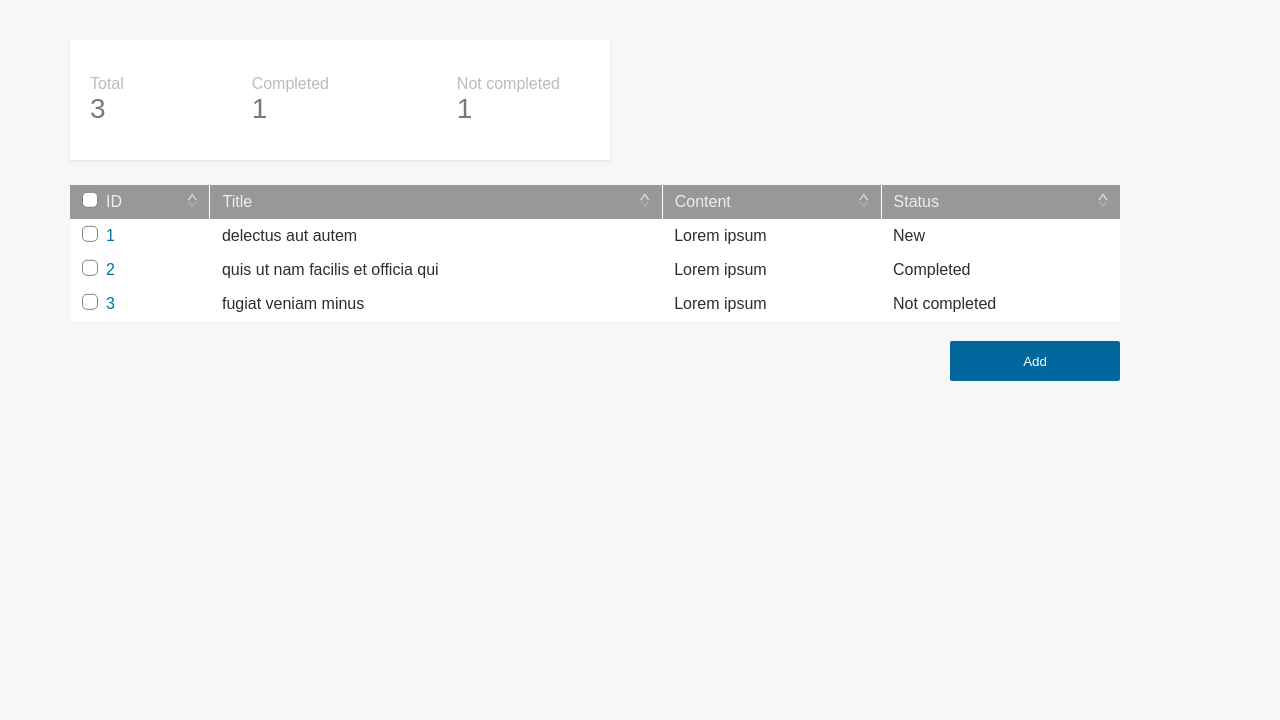
Test: Delete Notes › Delete two notes
Expected: the text "delectus aut autem" is shown, [210,219,662,253]
Expected: the text "fugiat veniam minus" is shown, [210,287,662,321]
Click the checkbox with test id "checkbox-1" at (90, 234), box [82,226,98,242]
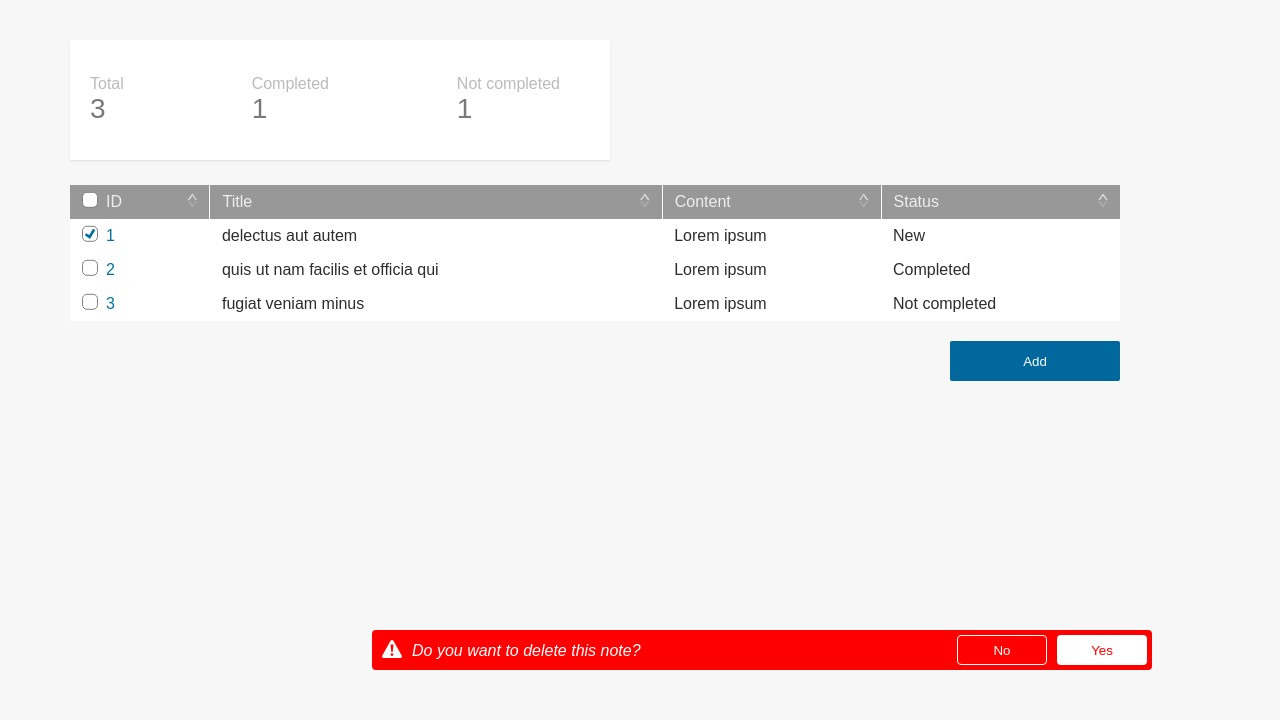
Click the checkbox with test id "checkbox-3" at (90, 302), box [82,294,98,310]
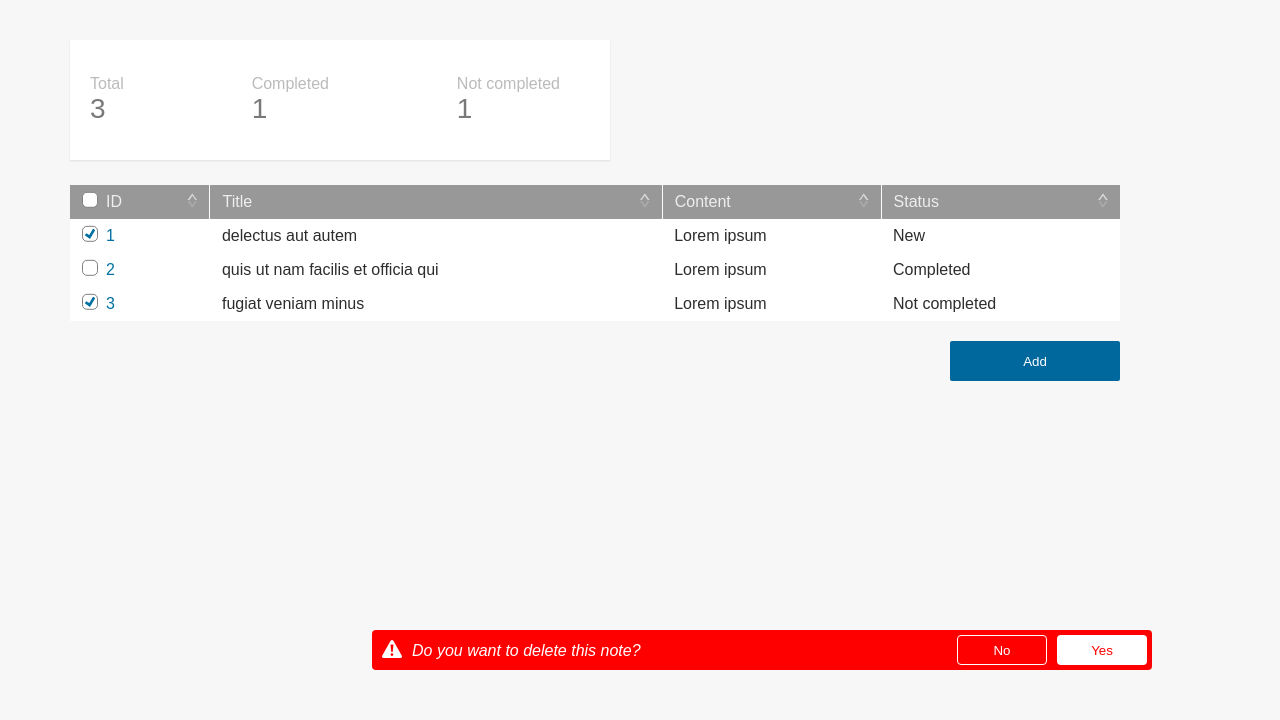
Now the text "Do you want to delete this note?" is shown, box [412,638,641,662]
Click the button with test id "yes-delete" at (1102, 650), box [1057,635,1147,665]
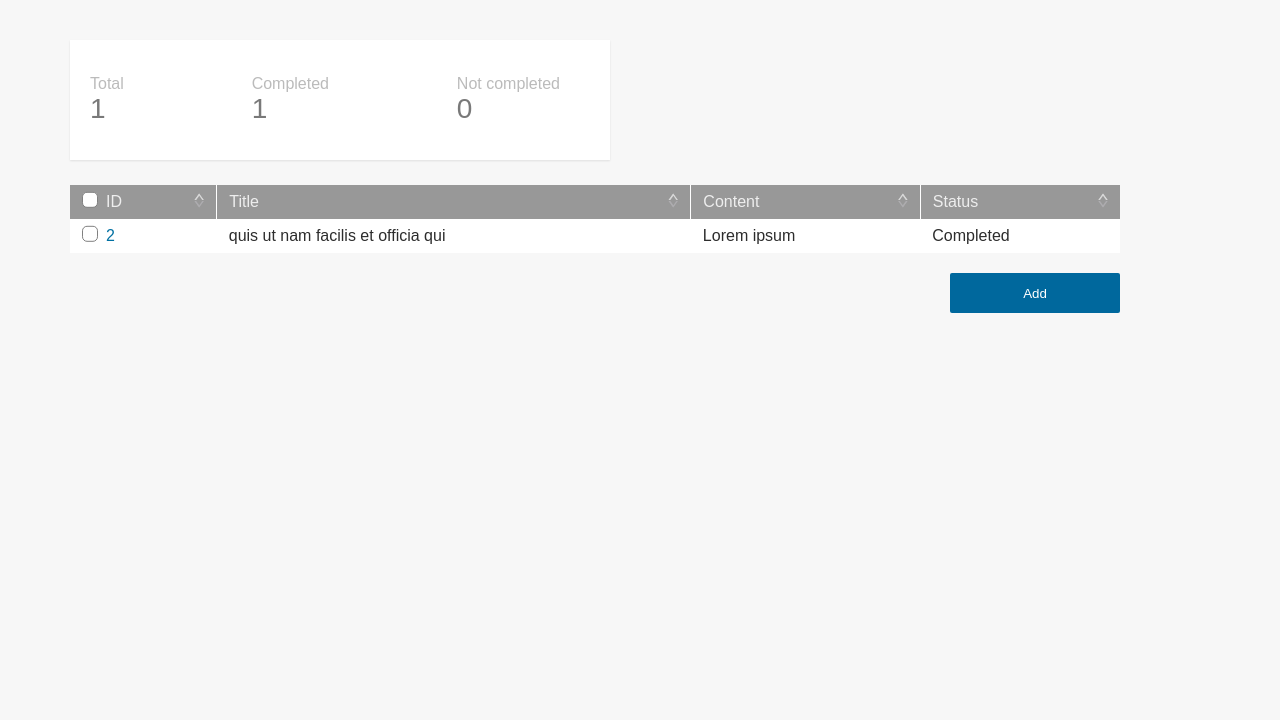
Now the text "delectus aut autem" is gone
Now the text "fugiat veniam minus" is gone
